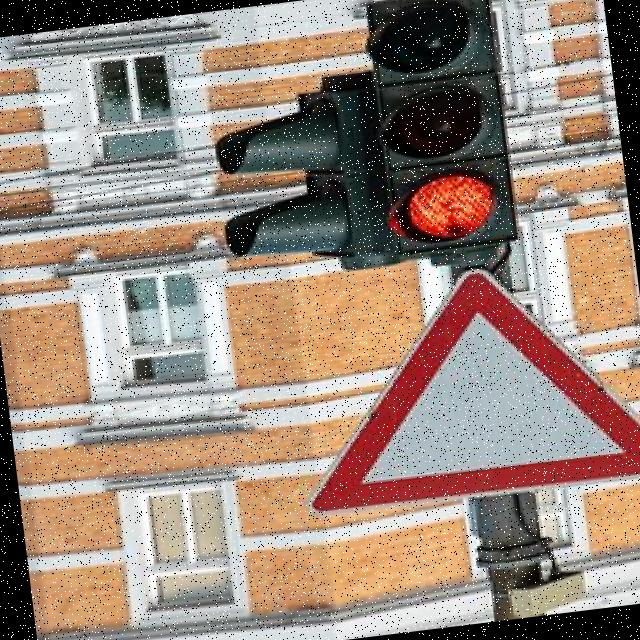give_way: (271, 249, 640, 531)
